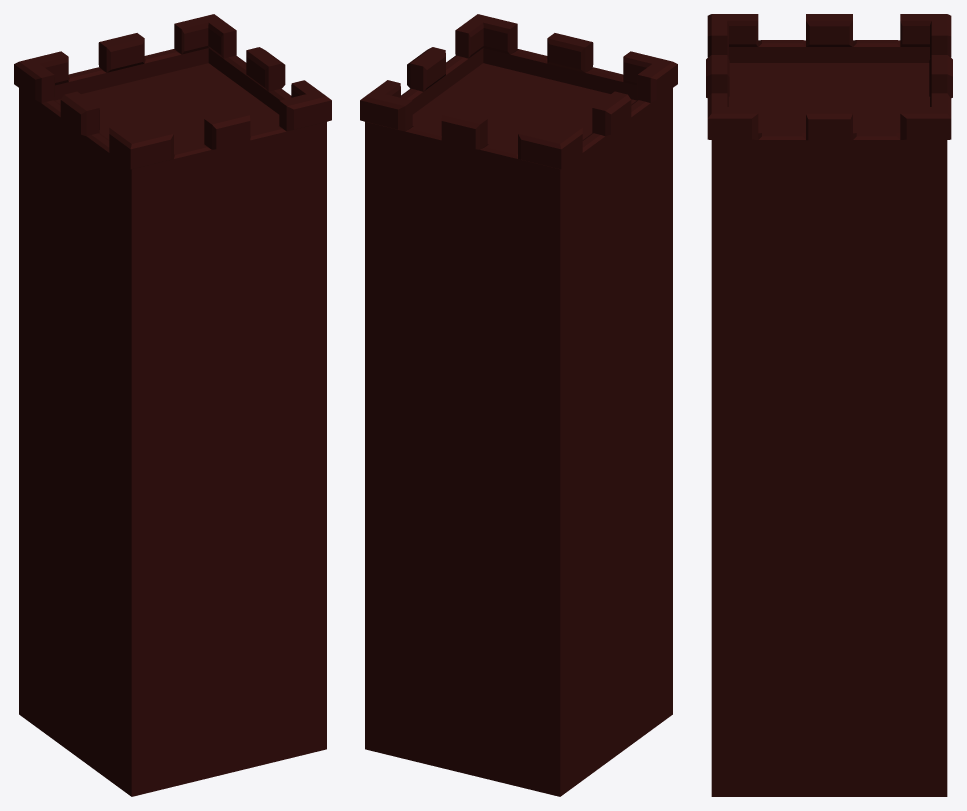
The model's file is Tower.FBX.
3 views of the same model, side by side, from view 1: azimuth 30°, elevation 25°; view 2: azimuth 150°, elevation 25°; view 3: azimuth 270°, elevation 25° (orthographic). The views are drawn at different scales.
Visible parts, largest first — view 1: Box001; view 2: Box001; view 3: Box001.
Part boxes in pixels (<box>): Box001: <box>14,14,331,796</box>; Box001: <box>360,14,677,796</box>; Box001: <box>706,14,952,796</box>.
Size of the model in its own units: 124 by 378 by 124.
